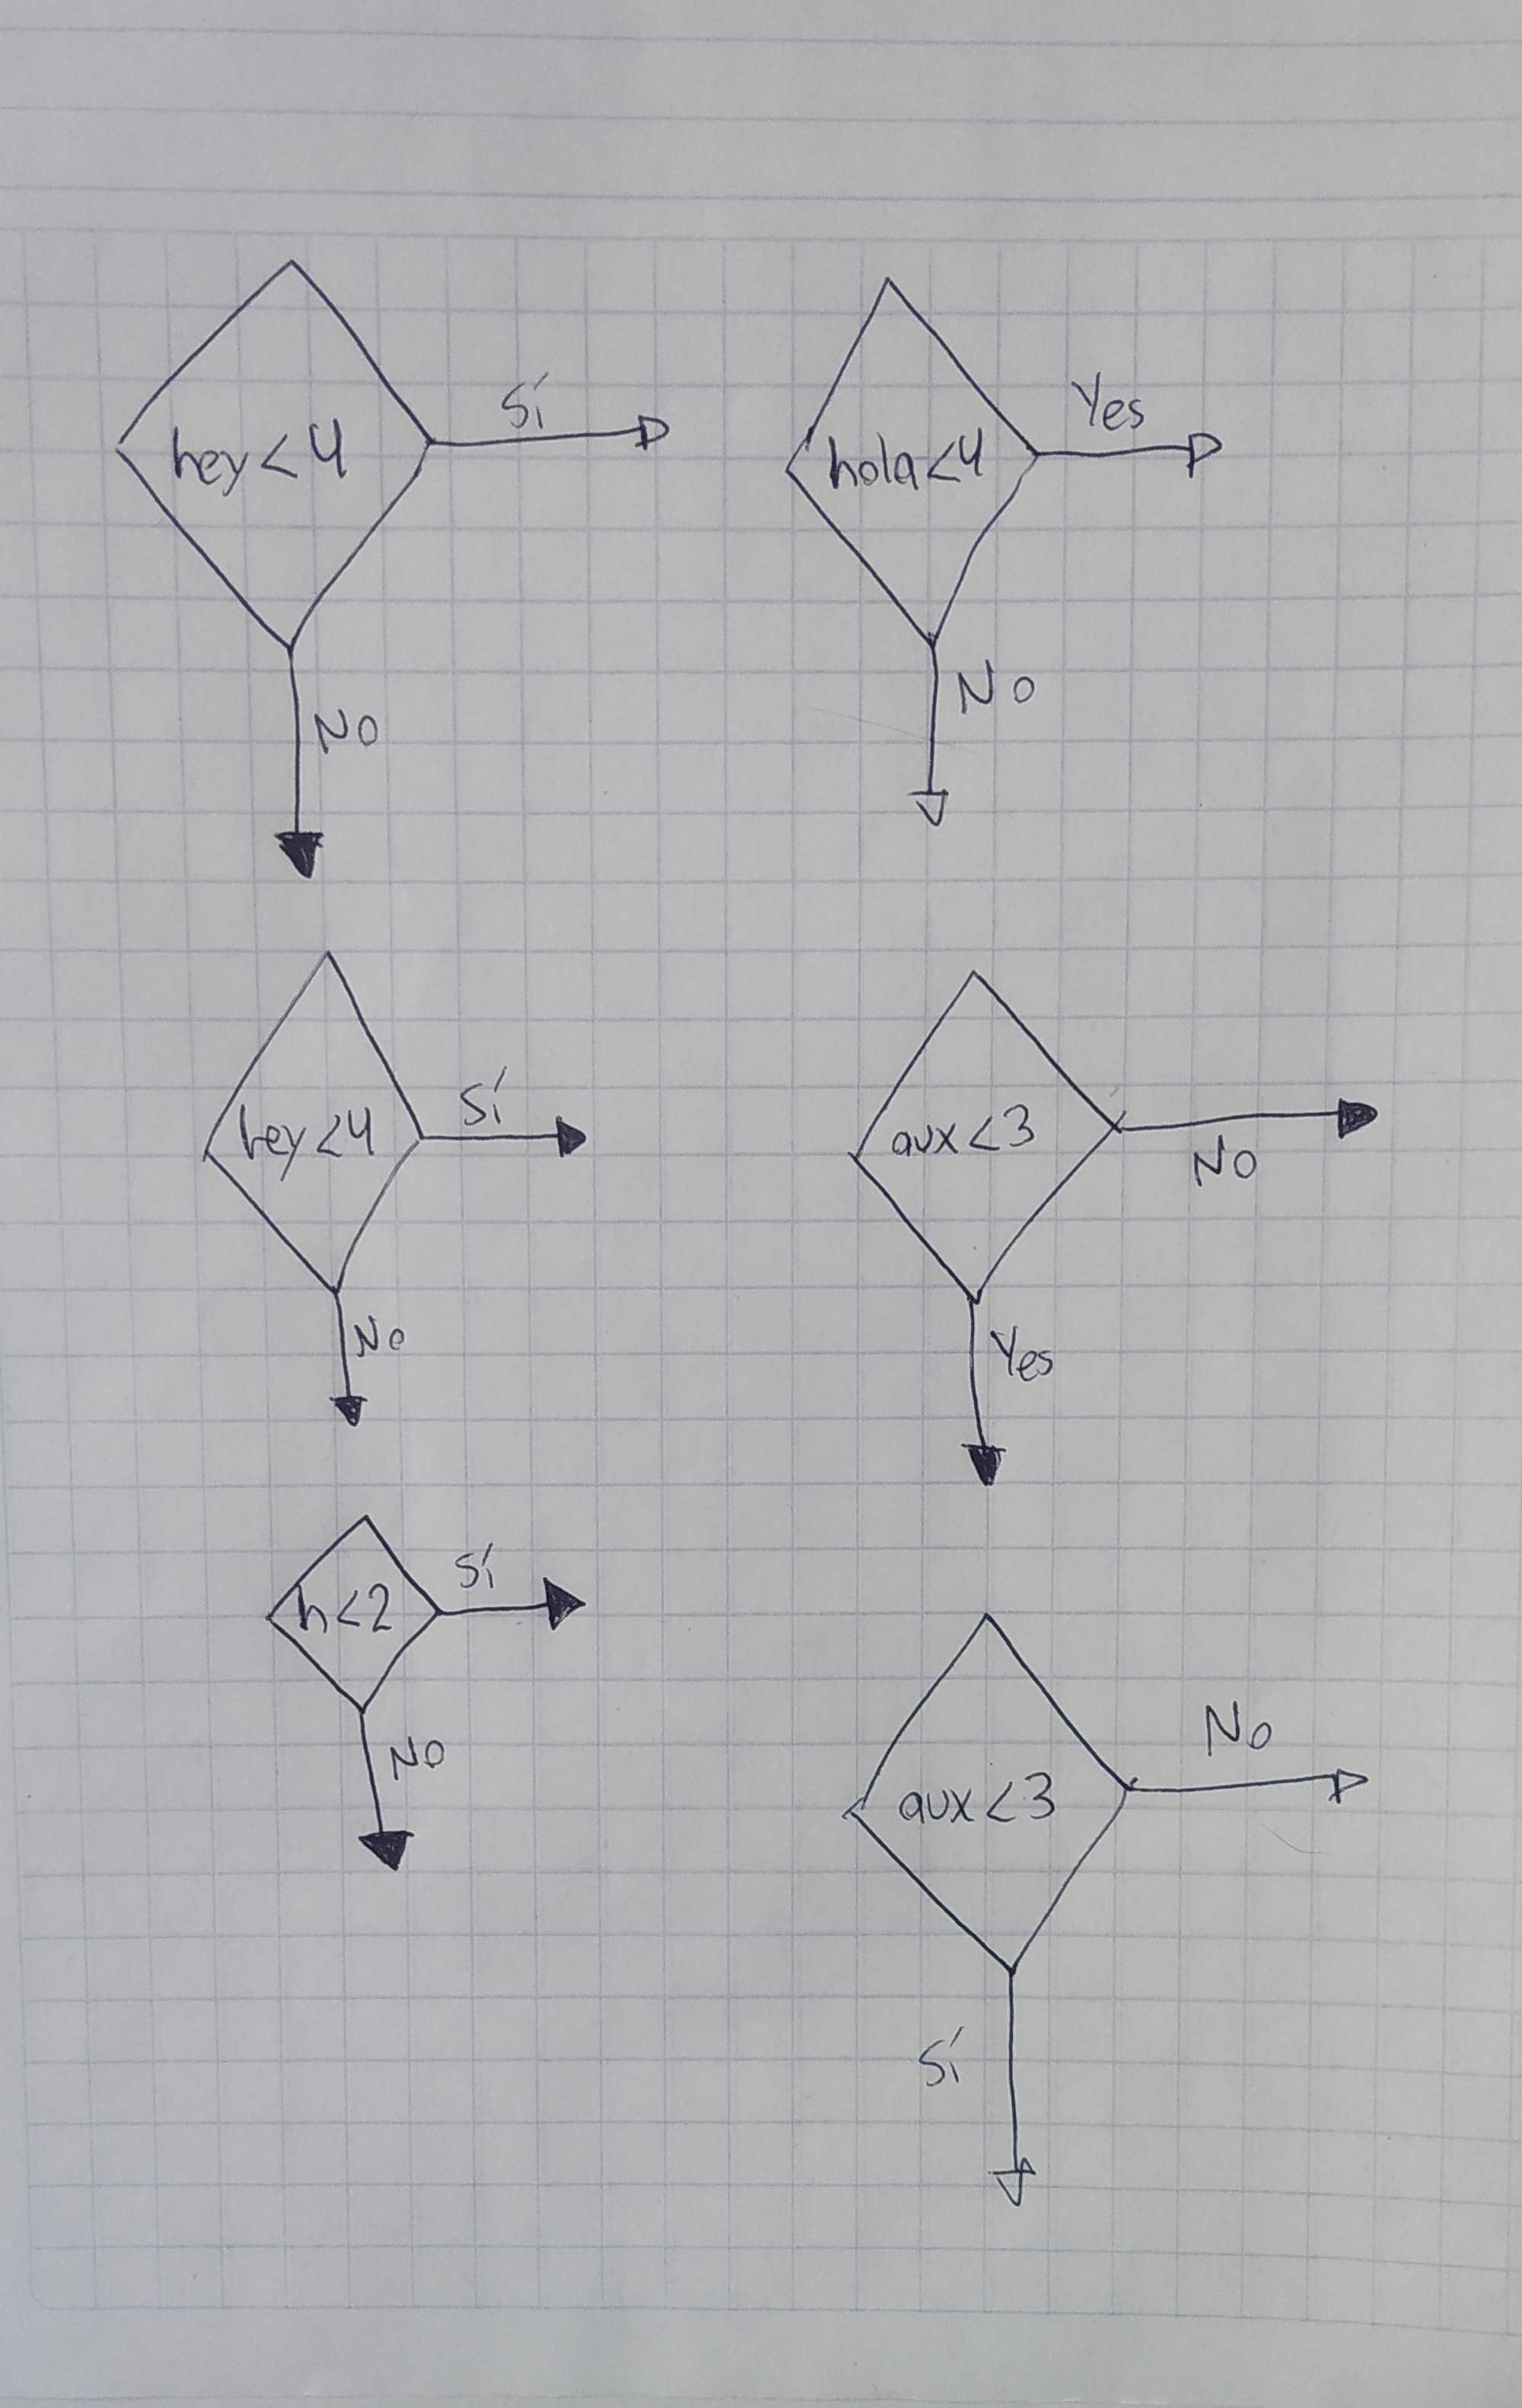arrow_line_down: (261, 649, 345, 886), (975, 1971, 1050, 2226), (942, 1294, 1022, 1500), (340, 1706, 426, 1882), (898, 637, 971, 837), (312, 1287, 377, 1436)
arrow_line_right: (1115, 1075, 1385, 1158), (1126, 1749, 1394, 1827), (426, 403, 687, 474), (1035, 412, 1236, 488), (419, 1103, 598, 1170), (437, 1571, 598, 1642)
decision: (100, 242, 444, 658), (824, 1592, 1147, 1980), (768, 265, 1047, 659), (836, 952, 1124, 1319), (184, 937, 435, 1301), (254, 1496, 445, 1722)
